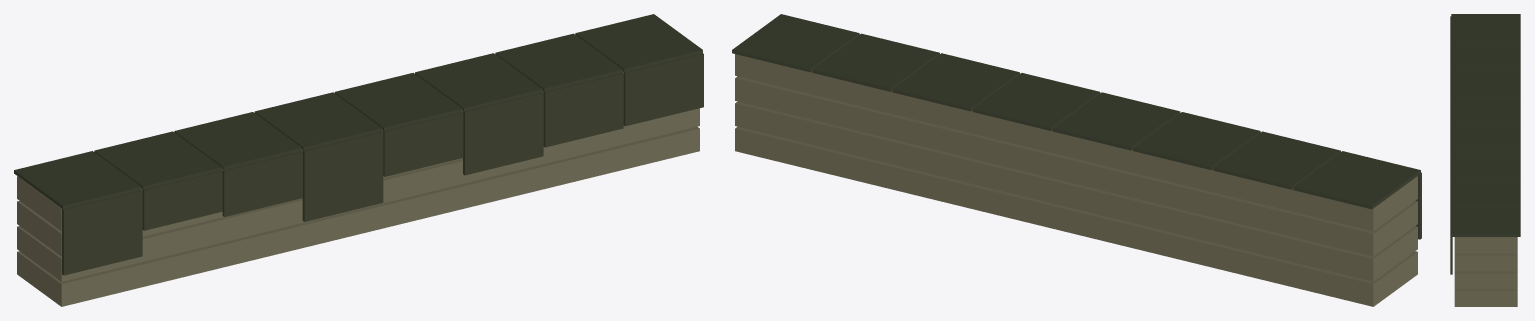
File: SM_MuroSacos_v4_Red_e0_Sano_LOD1.fbx
3 views of the same model, side by side, from view 1: azimuth 30°, elevation 25°; view 2: azimuth 150°, elevation 25°; view 3: azimuth 270°, elevation 25° (orthographic). The views are drawn at different scales.
Parts seen in each view (by area): view 1: SM_bloques.muro_sacos_estados_v16_LOD1; view 2: SM_bloques.muro_sacos_estados_v16_LOD1; view 3: SM_bloques.muro_sacos_estados_v16_LOD1.
Part boxes in pixels (bbox=[...]): SM_bloques.muro_sacos_estados_v16_LOD1: bbox=[14, 14, 703, 306]; SM_bloques.muro_sacos_estados_v16_LOD1: bbox=[732, 14, 1421, 306]; SM_bloques.muro_sacos_estados_v16_LOD1: bbox=[1450, 14, 1520, 306].
Bounding box in the file's own units: 7.98 × 1.23 × 1.08.
